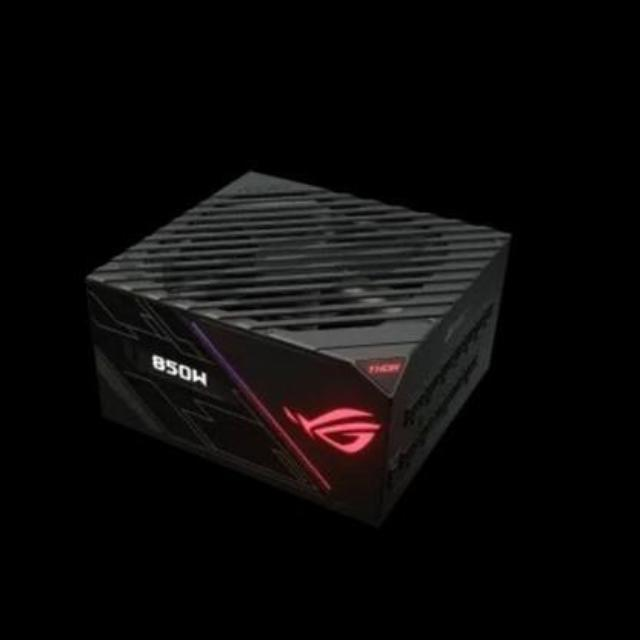PSU: (78, 148, 502, 528)
